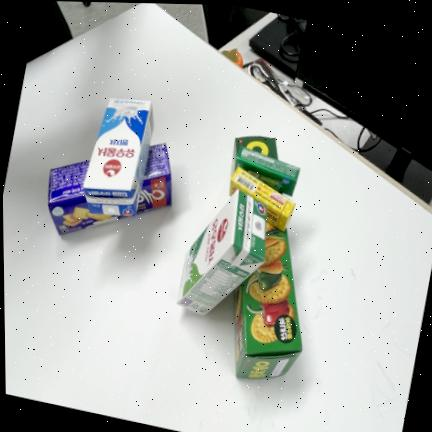cracker_ace: (47, 159, 133, 236), (134, 143, 172, 216)
cracker_vege: (234, 223, 302, 379), (230, 136, 278, 177)
gum_green: (231, 146, 300, 196)
gum_yellow: (229, 168, 295, 231)
milk_blue: (83, 98, 154, 217)
milk_green: (177, 190, 267, 315)
